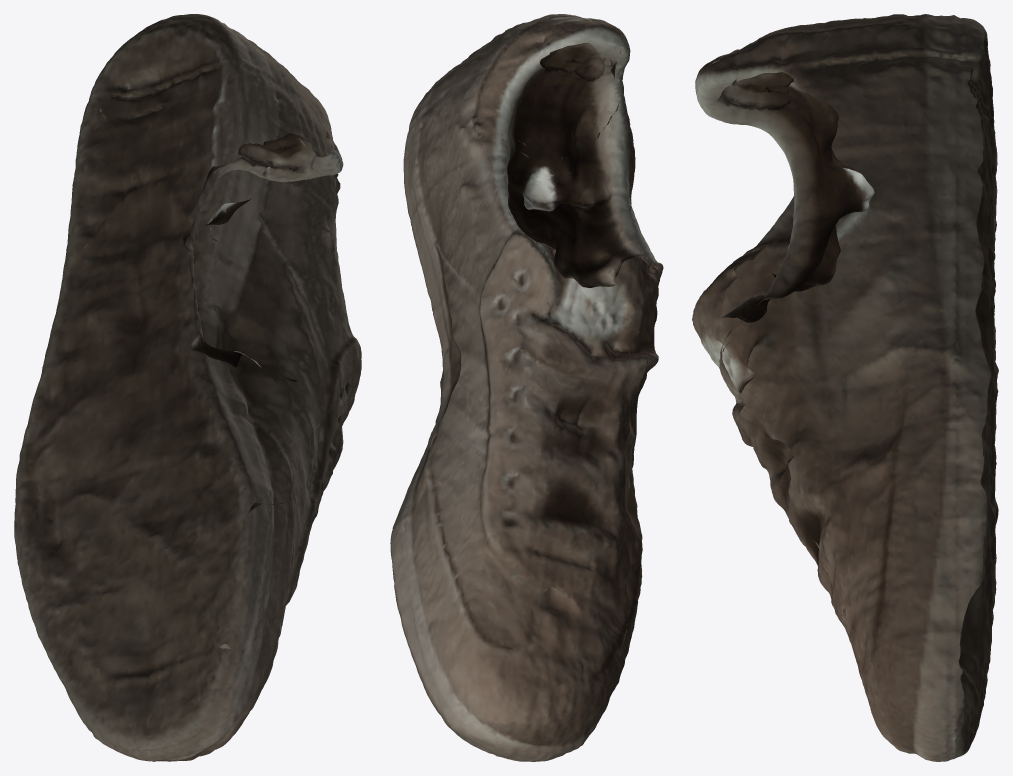
File: shoe3.glb
3 renders of one model, left to right at view 1: azimuth 30°, elevation 25°; view 2: azimuth 150°, elevation 25°; view 3: azimuth 270°, elevation 25°, orthographic. The views are drawn at different scales.
Size of the model in its own units: 0.3523 by 1 by 0.3759.
